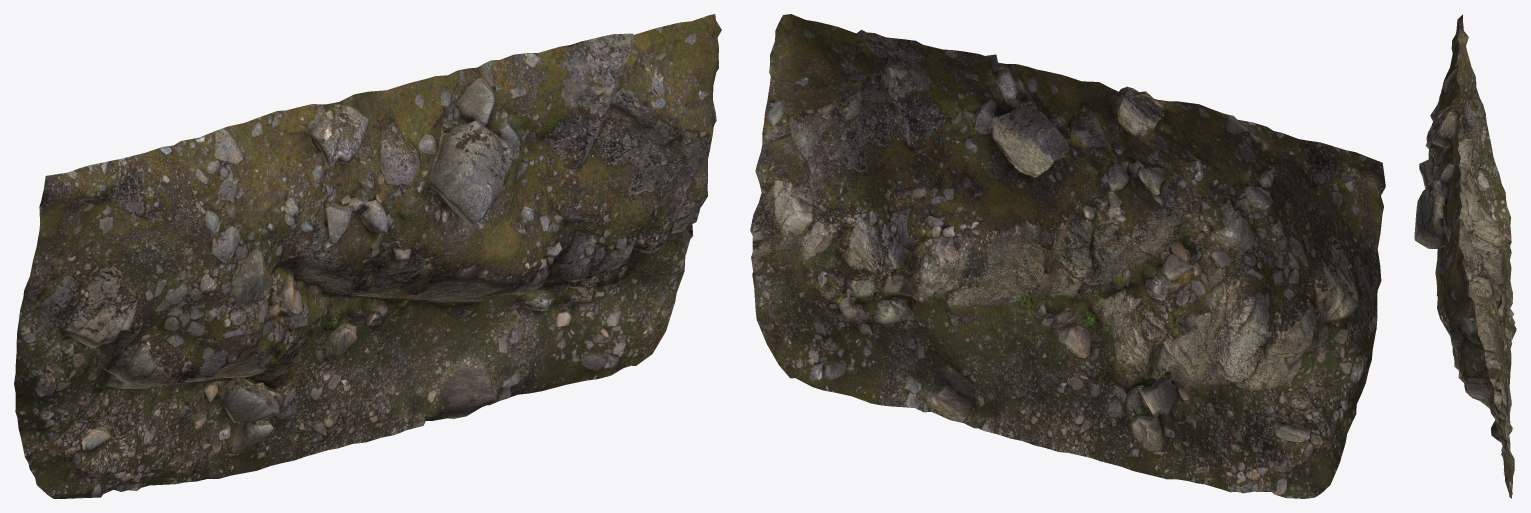
The model's file is LandscapeSample.obj.
3 views of the same model, side by side, from view 1: azimuth 30°, elevation 25°; view 2: azimuth 150°, elevation 25°; view 3: azimuth 270°, elevation 25° (orthographic). The views are drawn at different scales.
Visible parts, largest first — view 1: wd4icipcb_LOD0_TIER2_000; view 2: wd4icipcb_LOD0_TIER2_000; view 3: wd4icipcb_LOD0_TIER2_000.
Boxes of the visible parts, x1,y1,x2,y2 form: wd4icipcb_LOD0_TIER2_000: [14, 14, 721, 498]; wd4icipcb_LOD0_TIER2_000: [750, 14, 1385, 498]; wd4icipcb_LOD0_TIER2_000: [1414, 14, 1516, 498].
Size of the model in its own units: 26.33 by 14.18 by 4.67.
1 material, 1 textured.
